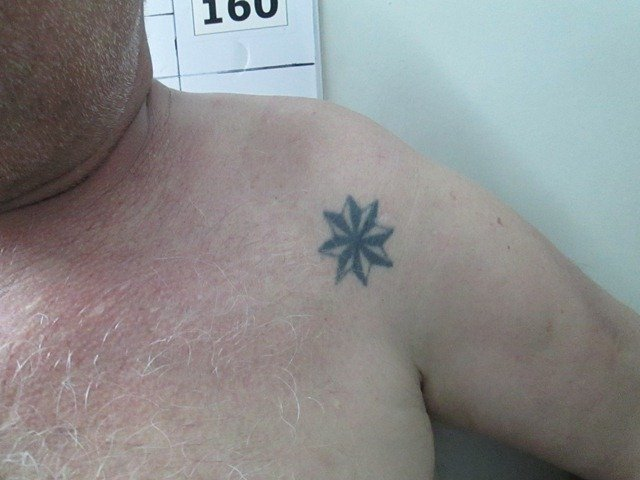tatu4_zvezda: (317, 193, 396, 290)
